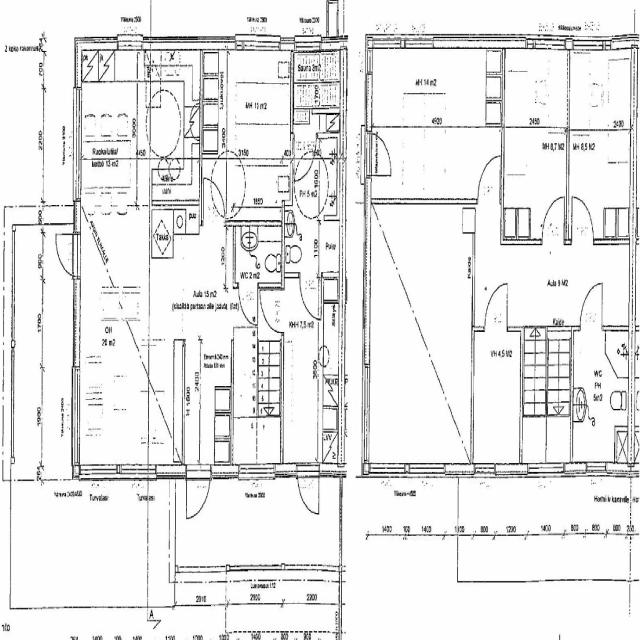door: (186, 462, 210, 526), (50, 233, 80, 276), (297, 462, 319, 520), (362, 132, 390, 174), (260, 289, 285, 332), (294, 132, 316, 180), (542, 196, 564, 244), (485, 284, 507, 332), (580, 284, 602, 332), (572, 197, 594, 244), (203, 179, 225, 225), (478, 156, 499, 204), (300, 272, 321, 319), (239, 283, 257, 323)
